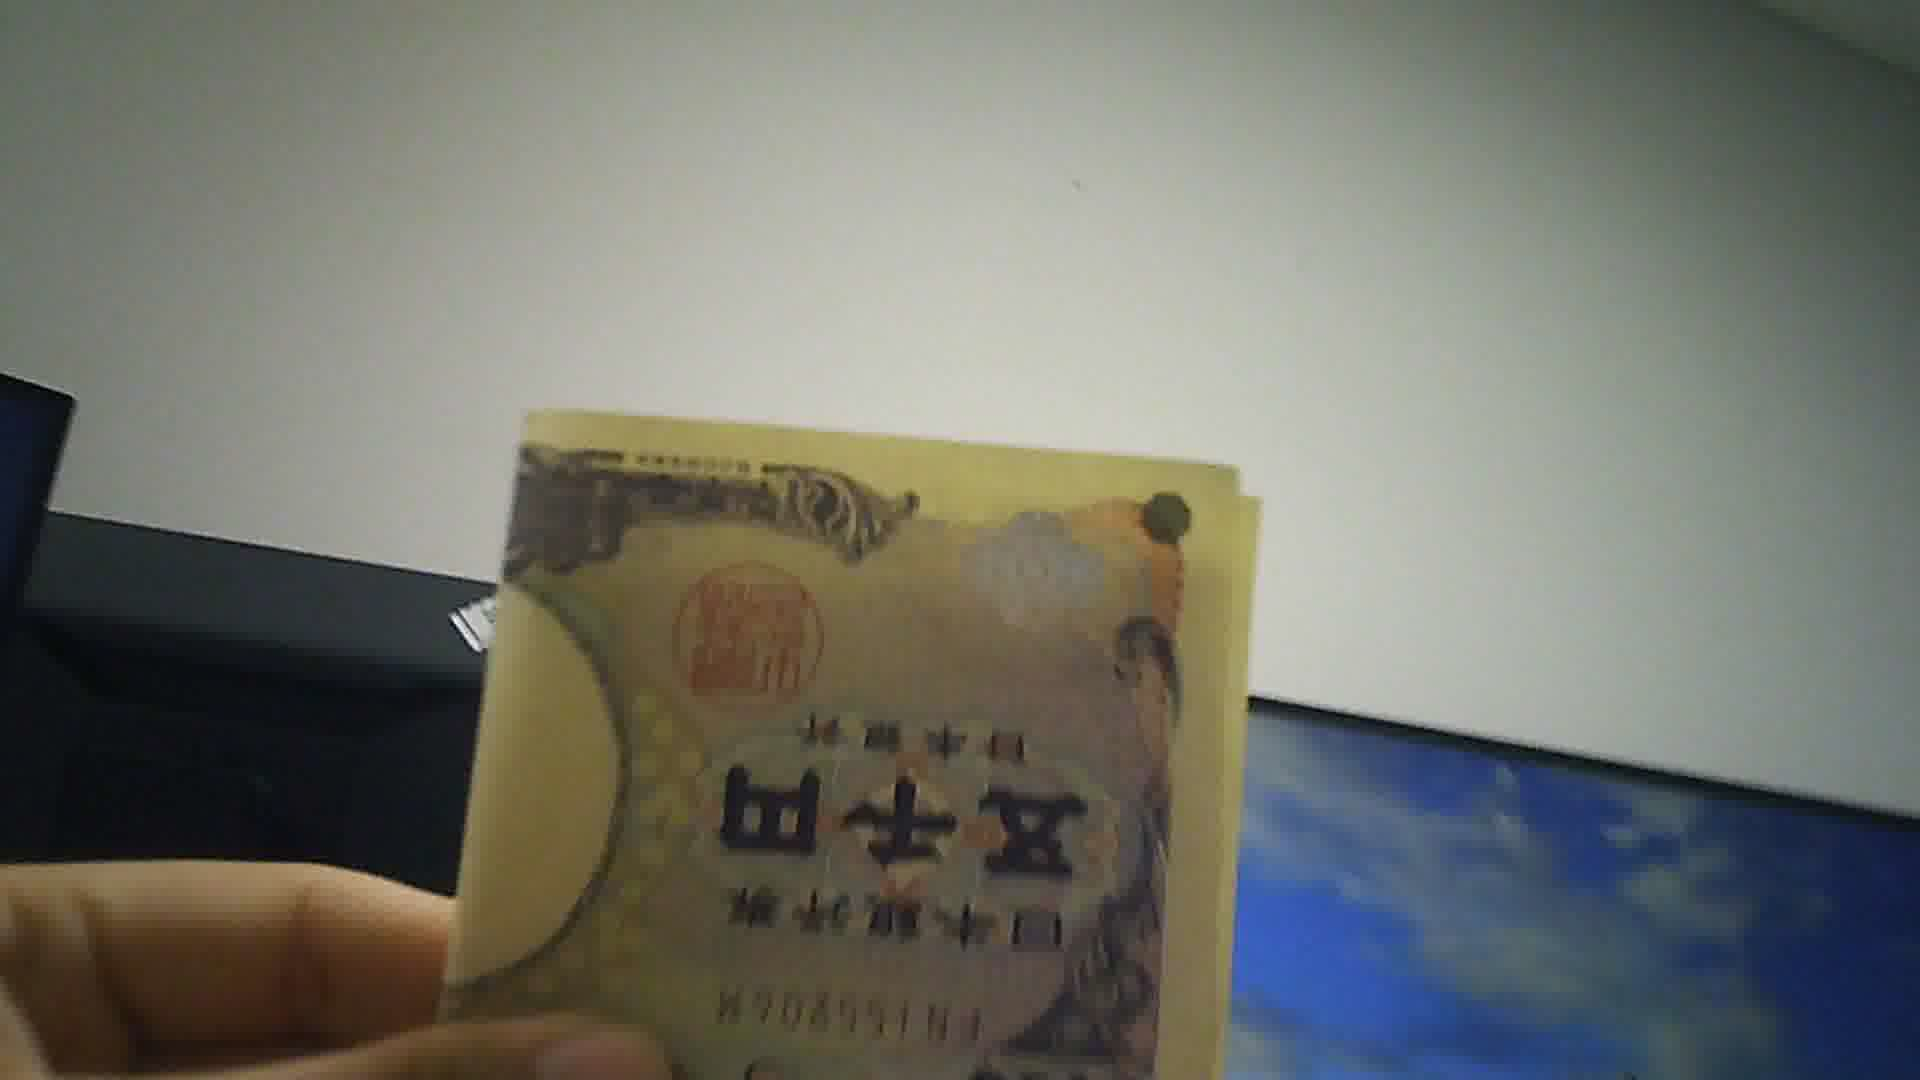5,000 Yen: (438, 405, 1234, 1073)
